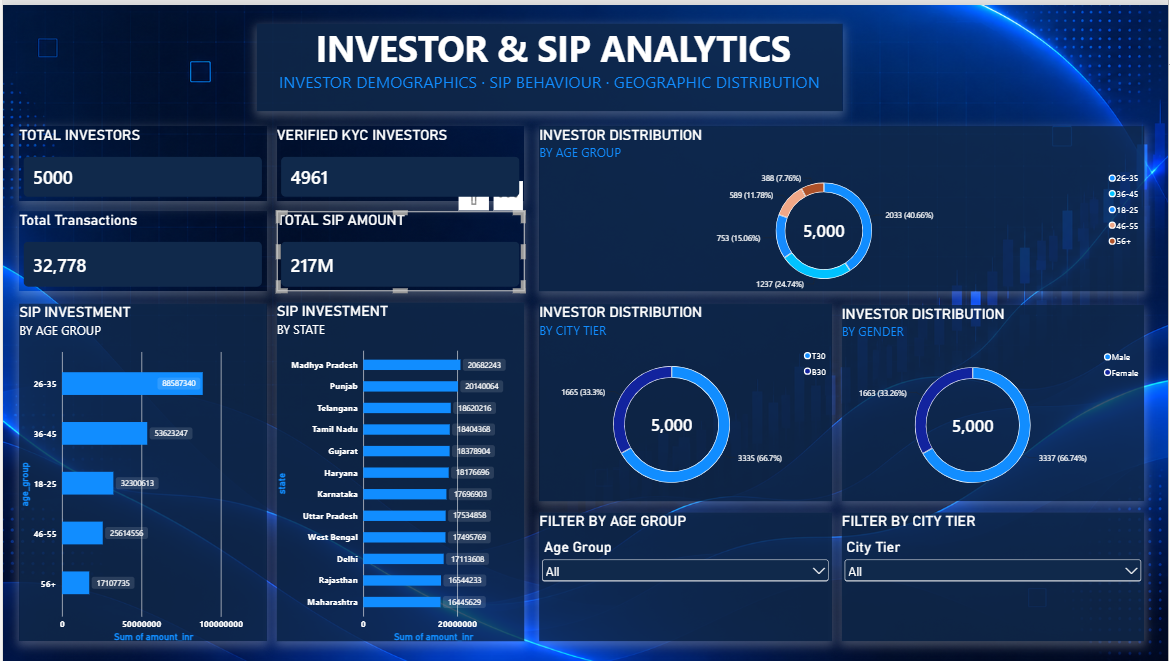

Layout of this report page (visuals, bound fields, positions):
{"tool":"powerbi","page":{"name":"Page 3","canvas":[1920,1080],"ordinal":2},"visuals":[{"type":"textbox","box":[418.3,30.9,965.4,144.1],"z":0},{"type":"cardVisual","title":"TOTAL INVESTORS","fields":{"Data":["Count(08_investor_transactions.investor_id)"]},"box":[26.8,199.9,408,123.6],"z":1},{"type":"cardVisual","title":"Total Transactions\t","fields":{"Data":["CountNonNull(08_investor_transactions.investor_id)"]},"box":[26.8,340,408,131.9],"z":2},{"type":"cardVisual","title":"TOTAL SIP AMOUNT","fields":{"Data":["Sum(08_investor_transactions.amount_inr)"]},"box":[451.3,340,408,131.9],"z":3},{"type":"cardVisual","title":"VERIFIED KYC INVESTORS","fields":{"Data":["Count(08_investor_transactions.investor_id)"]},"box":[451.3,199.9,408,123.6],"z":4},{"type":"donutChart","title":"INVESTOR DISTRIBUTION ","fields":{"Category":["08_investor_transactions.age_group"],"Y":["Count(08_investor_transactions.investor_id)"]},"box":[884,199.9,997.3,272],"z":5},{"type":"donutChart","title":"INVESTOR DISTRIBUTION","fields":{"Category":["08_investor_transactions.gender"],"Y":["Count(08_investor_transactions.investor_id)"]},"box":[1382.6,494.5,498.6,323.5],"z":6},{"type":"clusteredBarChart","title":"SIP INVESTMENT","fields":{"Category":["08_investor_transactions.age_group"],"Y":["Sum(08_investor_transactions.amount_inr)"]},"box":[26.8,492.5,408,556.3],"z":7},{"type":"clusteredBarChart","title":"SIP INVESTMENT","fields":{"Category":["08_investor_transactions.state"],"Y":["Sum(08_investor_transactions.amount_inr)"]},"box":[451.3,490.4,408,558.4],"z":8},{"type":"donutChart","title":"INVESTOR DISTRIBUTION","fields":{"Category":["08_investor_transactions.city_tier"],"Y":["Count(08_investor_transactions.investor_id)"]},"box":[884,492.5,482.2,325.6],"z":9},{"type":"slicer","title":"FILTER BY AGE GROUP","fields":{"Values":["08_investor_transactions.age_group"]},"box":[884,836.6,482.2,212.2],"z":10},{"type":"slicer","title":"FILTER BY CITY TIER","fields":{"Values":["08_investor_transactions.city_tier"]},"box":[1382.6,836.6,498.6,212.2],"z":11}]}

Visuals, with their boxes in screenshot pixels (x1, y1, x2, y2), scaled from the page's 1920x1080 canvas onto the 1170x661 screenshot:
textbox: (x1=255, y1=19, x2=843, y2=107)
"TOTAL INVESTORS" cardVisual: (x1=16, y1=122, x2=265, y2=198)
"Total Transactions	" cardVisual: (x1=16, y1=208, x2=265, y2=289)
"TOTAL SIP AMOUNT" cardVisual: (x1=275, y1=208, x2=524, y2=289)
"VERIFIED KYC INVESTORS" cardVisual: (x1=275, y1=122, x2=524, y2=198)
"INVESTOR DISTRIBUTION " donutChart: (x1=539, y1=122, x2=1146, y2=289)
"INVESTOR DISTRIBUTION" donutChart: (x1=843, y1=303, x2=1146, y2=501)
"SIP INVESTMENT" clusteredBarChart: (x1=16, y1=301, x2=265, y2=642)
"SIP INVESTMENT" clusteredBarChart: (x1=275, y1=300, x2=524, y2=642)
"INVESTOR DISTRIBUTION" donutChart: (x1=539, y1=301, x2=833, y2=501)
"FILTER BY AGE GROUP" slicer: (x1=539, y1=512, x2=833, y2=642)
"FILTER BY CITY TIER" slicer: (x1=843, y1=512, x2=1146, y2=642)
